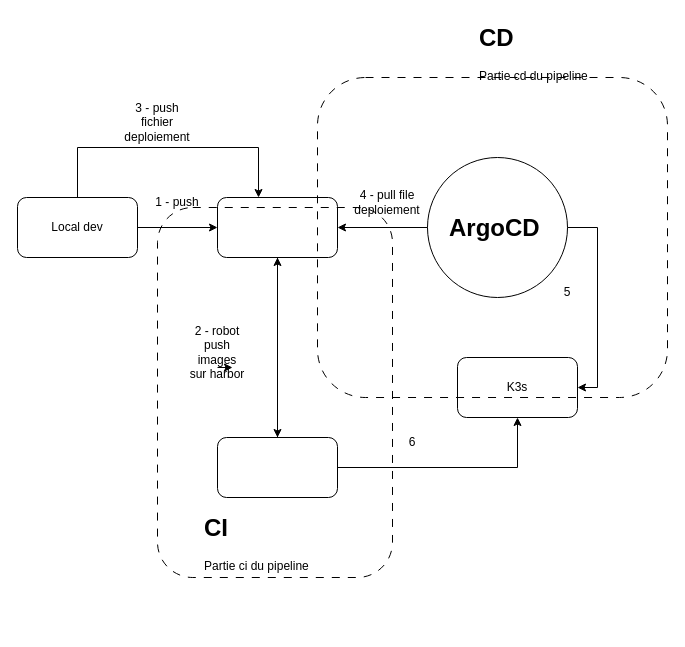
This 685x647 diagram has some shape labels left out. Each missing label, with the centre of its shape:
"Gitlab" belongs at point (277, 227).
"Harbor" belongs at point (277, 467).
